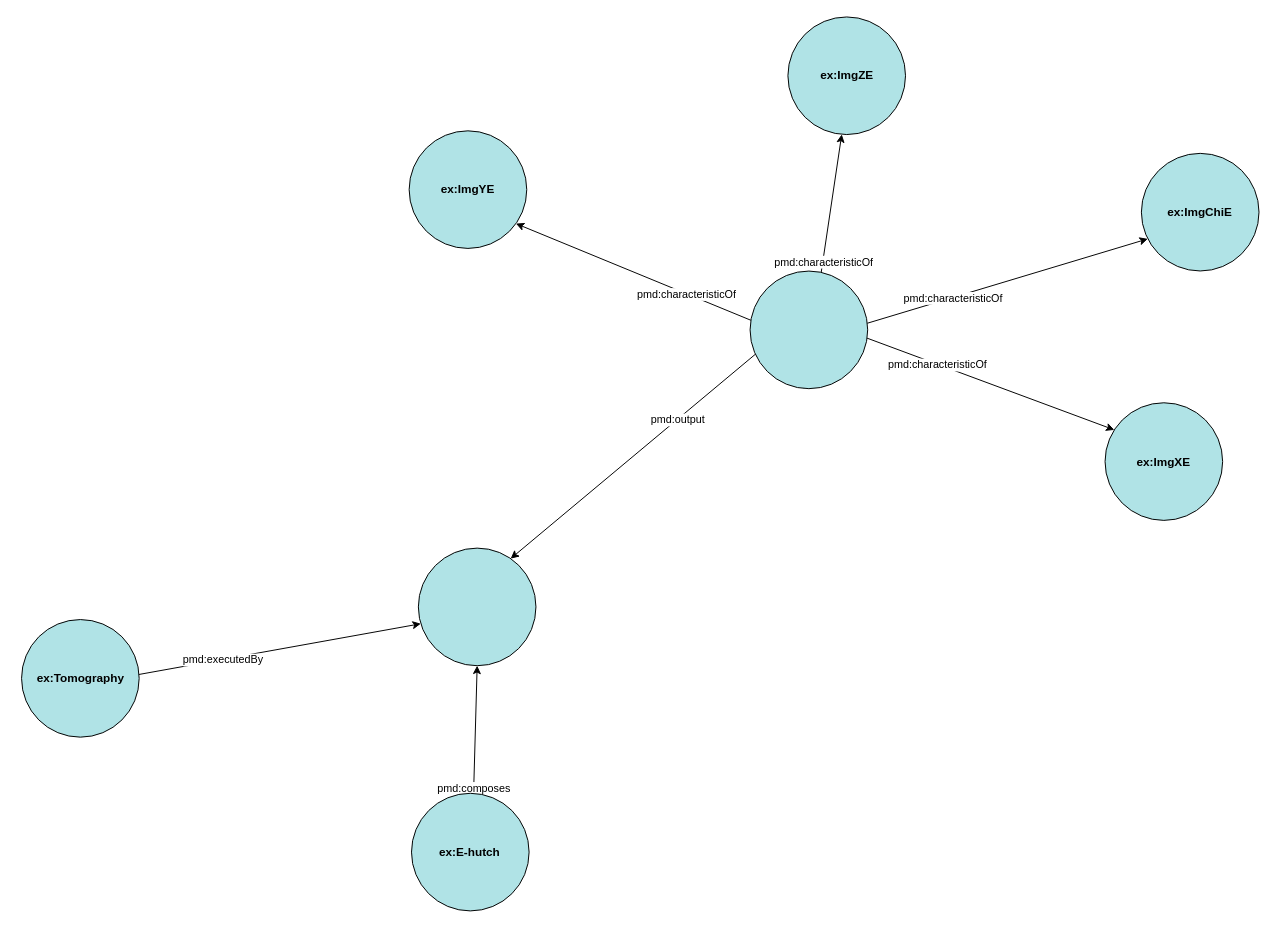
The diagram is 1277 pixels wide and 937 high, and some of its shapes have lost their labels. The shapes that lost their labels are listed below. From the top down, each one's centre as x and y in pixels, then its label:
At [808,329]: "ex:image_".
At [476,606]: "ex:TomoDetector".
